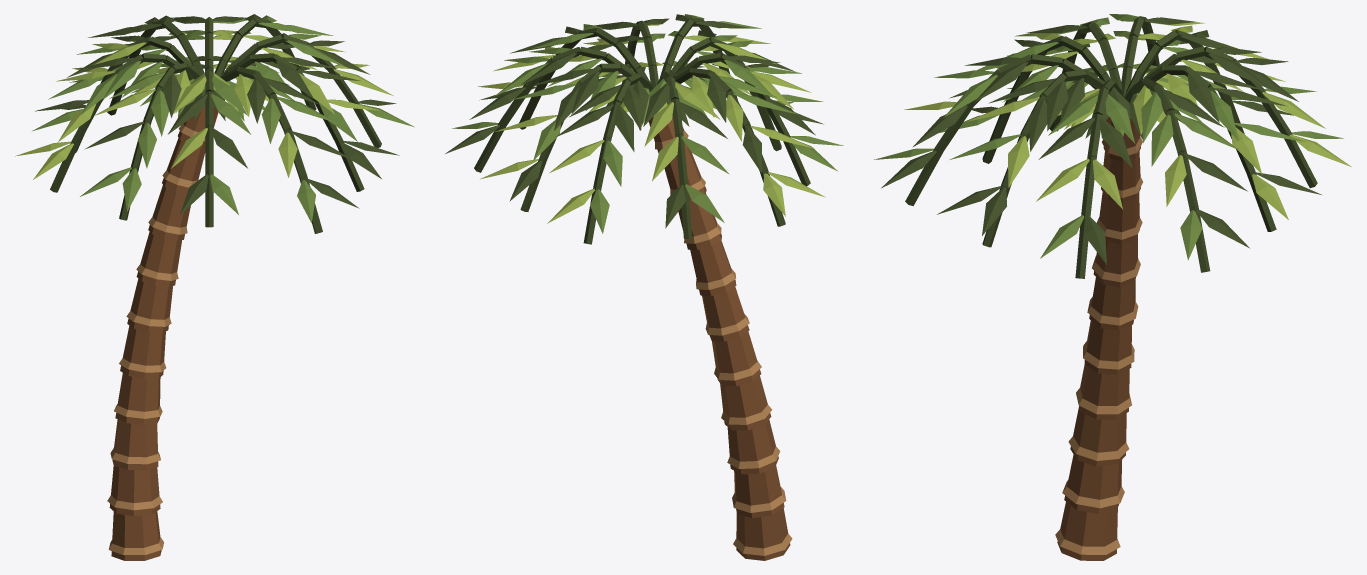
The model's file is Date_Palm_3.glb.
3 views of the same model, side by side, from view 1: azimuth 30°, elevation 25°; view 2: azimuth 150°, elevation 25°; view 3: azimuth 270°, elevation 25° (orthographic). The views are drawn at different scales.
Visible parts, largest first — view 1: Tapered trunk segment.021, Tapered trunk segment.020, Tapered trunk segment.022, Tapered trunk segment.023, Tapered trunk segment.024, Tapered trunk segment.025, Tapered trunk segment.026, Tapered trunk segment.027, Tapered trunk segment.028, Tapered trunk segment.029, Palm leaflet.330, Palm leaflet.309 (+1 smaller); view 2: Tapered trunk segment.020, Tapered trunk segment.022, Tapered trunk segment.023, Tapered trunk segment.021, Tapered trunk segment.024, Tapered trunk segment.025, Tapered trunk segment.026, Tapered trunk segment.027, Tapered trunk segment.028, Palm leaflet.292, Palm leaflet.273, Palm leaflet.271 (+11 smaller); view 3: Tapered trunk segment.020, Tapered trunk segment.021, Tapered trunk segment.022, Tapered trunk segment.023, Tapered trunk segment.024, Tapered trunk segment.025, Tapered trunk segment.027, Tapered trunk segment.026, Tapered trunk segment.028, Palm leaflet.246, Palm leaflet.248, Palm leaflet.355 (+14 smaller).
Boxes of the visible parts, x1,y1,x2,y2 form: Tapered trunk segment.021: (109, 466, 160, 516); Tapered trunk segment.020: (111, 511, 161, 560); Tapered trunk segment.022: (112, 419, 158, 470); Tapered trunk segment.023: (115, 373, 160, 424); Tapered trunk segment.024: (120, 325, 165, 378); Tapered trunk segment.025: (127, 279, 172, 333); Tapered trunk segment.026: (136, 232, 181, 287); Tapered trunk segment.027: (148, 185, 190, 240); Tapered trunk segment.028: (162, 138, 205, 194); Tapered trunk segment.029: (178, 106, 218, 147); Palm leaflet.330: (261, 98, 280, 143); Palm leaflet.309: (137, 123, 156, 168); Tapered trunk segment.020: (736, 508, 790, 560); Tapered trunk segment.022: (727, 419, 778, 474); Tapered trunk segment.023: (720, 375, 771, 430); Tapered trunk segment.021: (734, 465, 784, 518); Tapered trunk segment.024: (712, 331, 761, 386); Tapered trunk segment.025: (702, 286, 749, 341); Tapered trunk segment.026: (690, 240, 736, 295); Tapered trunk segment.027: (678, 193, 721, 249); Tapered trunk segment.028: (664, 147, 706, 201); Palm leaflet.292: (707, 77, 726, 122); Palm leaflet.273: (603, 140, 622, 186); Palm leaflet.271: (614, 105, 634, 151); Tapered trunk segment.020: (1057, 502, 1117, 560); Tapered trunk segment.021: (1064, 454, 1122, 513); Tapered trunk segment.022: (1070, 407, 1126, 466); Tapered trunk segment.023: (1079, 364, 1129, 419); Tapered trunk segment.024: (1084, 320, 1131, 374); Tapered trunk segment.025: (1089, 277, 1135, 330); Tapered trunk segment.027: (1099, 192, 1139, 244); Tapered trunk segment.026: (1093, 234, 1138, 287); Tapered trunk segment.028: (1101, 151, 1140, 202); Palm leaflet.246: (1151, 114, 1173, 166); Palm leaflet.248: (1165, 155, 1186, 206); Palm leaflet.355: (1099, 118, 1132, 168).
Bounding box in the file's own units: 1.84 × 2.39 × 1.89.
